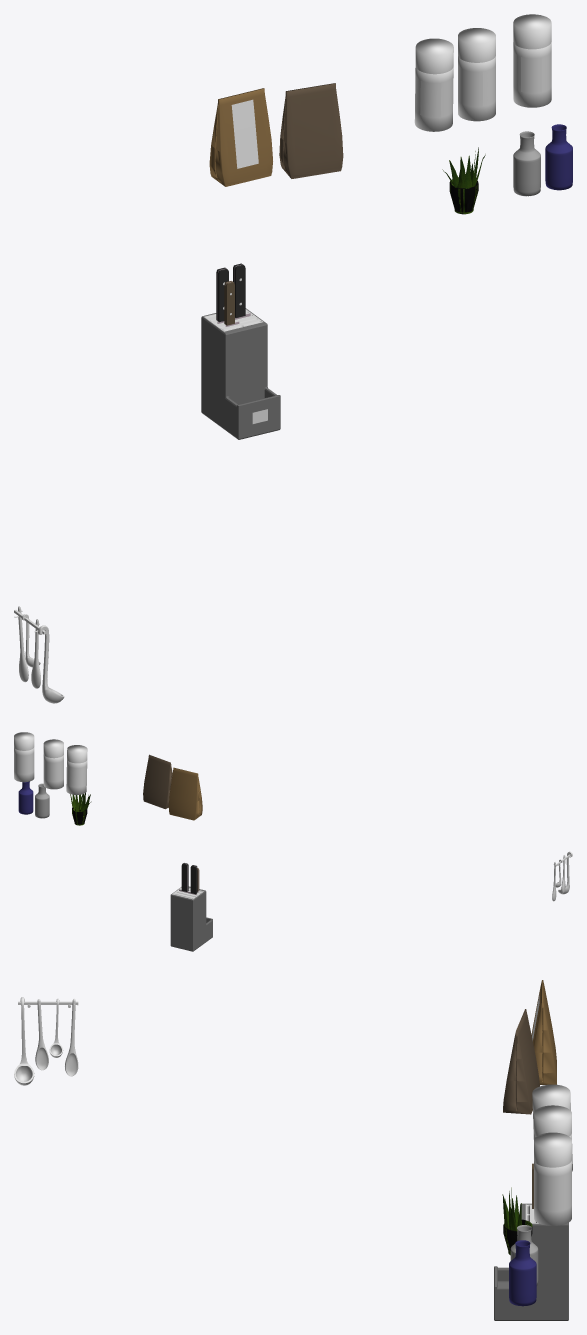
Rendered from walldecor.glb.
The picture shows the model from 3 angles, top to bottom: view 1: azimuth 30°, elevation 25°; view 2: azimuth 150°, elevation 25°; view 3: azimuth 270°, elevation 25°; orthographic projection. The views are drawn at different scales.
Parts seen in each view (by area): view 1: Knifeware, BagCoffe2, BagCoffe, Bottlepot5.002, Bottlepot5.001, Bottlepot5, Ladles, Cylinder.001, Cylinder, plant pot; view 2: Knifeware, BagCoffe, BagCoffe2, Bottlepot5, Bottlepot5.001, Bottlepot5.002, Ladles, plant pot, Cylinder.001, Cylinder; view 3: Knifeware, Bottlepot5.002, BagCoffe2, Ladles, BagCoffe, Cylinder.001, Bottlepot5, Bottlepot5.001, plant pot, Cylinder.
Part boxes in pixels (x1,y1,x2,y2): Knifeware: (201,263,280,439); BagCoffe2: (279,83,343,178); BagCoffe: (209,88,272,186); Bottlepot5.002: (513,14,551,107); Bottlepot5.001: (414,38,453,131); Bottlepot5: (458,28,495,121); Ladles: (14,606,64,703); Cylinder.001: (545,124,572,190); Cylinder: (513,131,540,196); plant pot: (442,147,485,214); Knifeware: (170,863,212,951); BagCoffe: (168,767,202,820); BagCoffe2: (143,754,172,809); Bottlepot5: (43,739,63,789); Bottlepot5.001: (66,745,87,794); Bottlepot5.002: (14,732,34,782); Ladles: (552,851,572,901); plant pot: (70,793,91,825); Cylinder.001: (18,781,33,814); Cylinder: (35,783,49,818); Knifeware: (494,1163,568,1320); Bottlepot5.002: (534,1132,571,1225); BagCoffe2: (503,1009,539,1114); Ladles: (14,997,78,1085); BagCoffe: (531,980,556,1084); Cylinder.001: (509,1240,536,1306); Bottlepot5: (534,1105,571,1139); Bottlepot5.001: (532,1084,572,1171); plant pot: (502,1187,532,1255); Cylinder: (510,1225,538,1285).
Bounding box in the file's own units: 110 × 43.35 × 68.03.
Materials: 17 (1 with a texture image).
